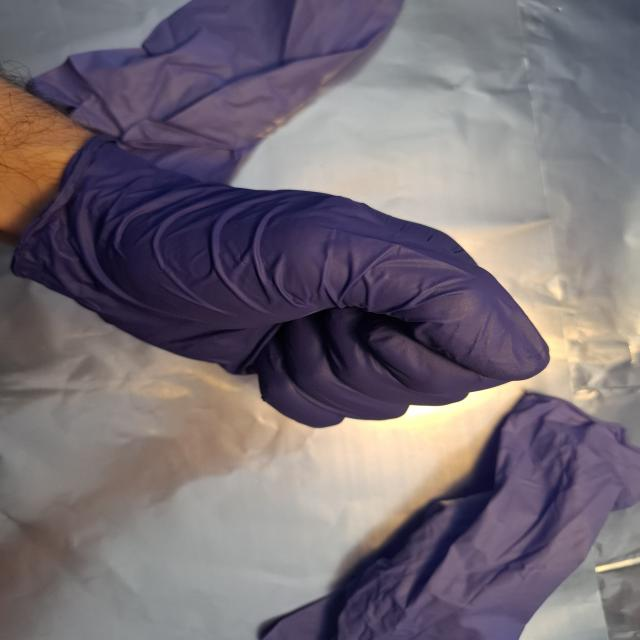glove_on: (17, 134, 557, 432)
